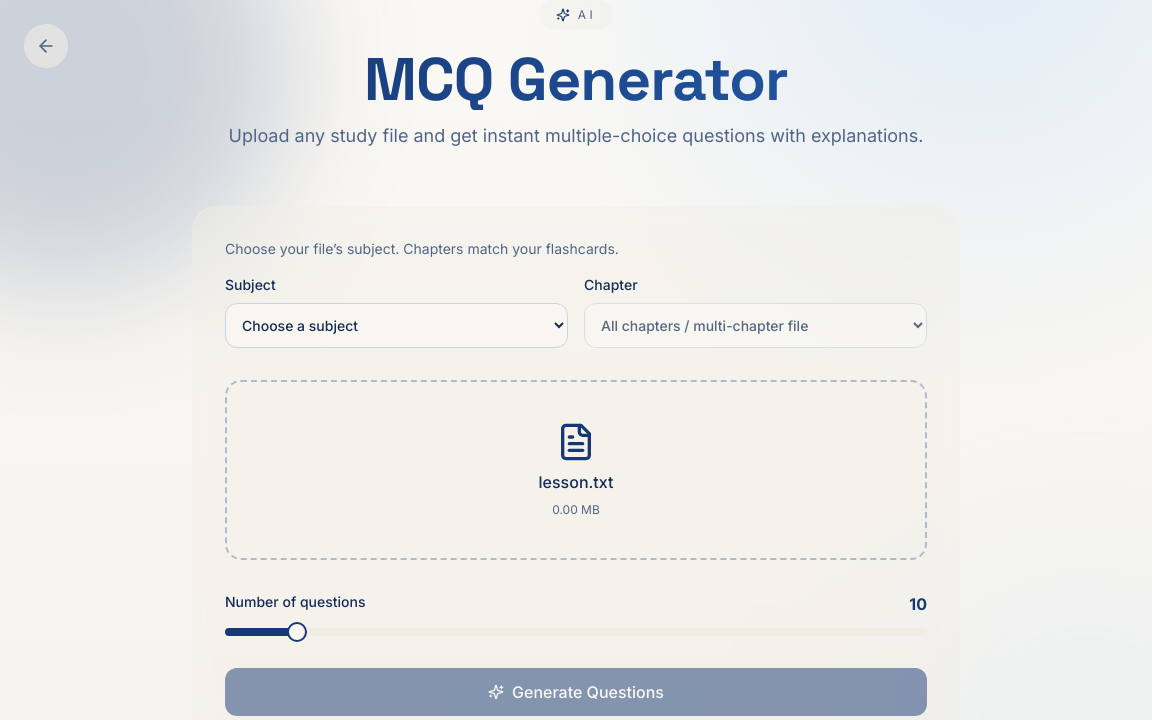
Test: MCQ generator chapter organization › requires a subject and uses the same chapter names as flashcards
Earlier steps of the test are not shown.
Expected: the text "lesson.txt" is shown, 538,470 -> 613,494
Expected: the button "Generate Questions" is disabled, 225,668 -> 927,716
Select "Physics" in the dropdown labelled "Subject": x=396, y=326 225,303 -> 568,348
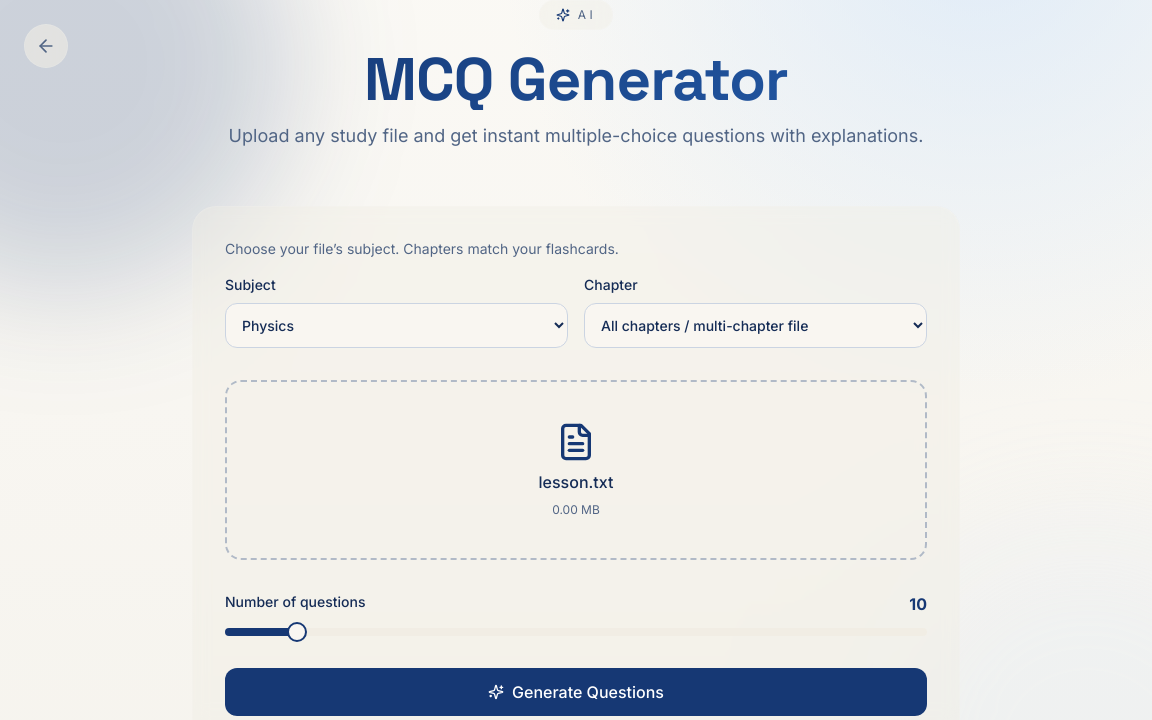
Now the button "Generate Questions" is enabled, box 225,668 -> 927,716
